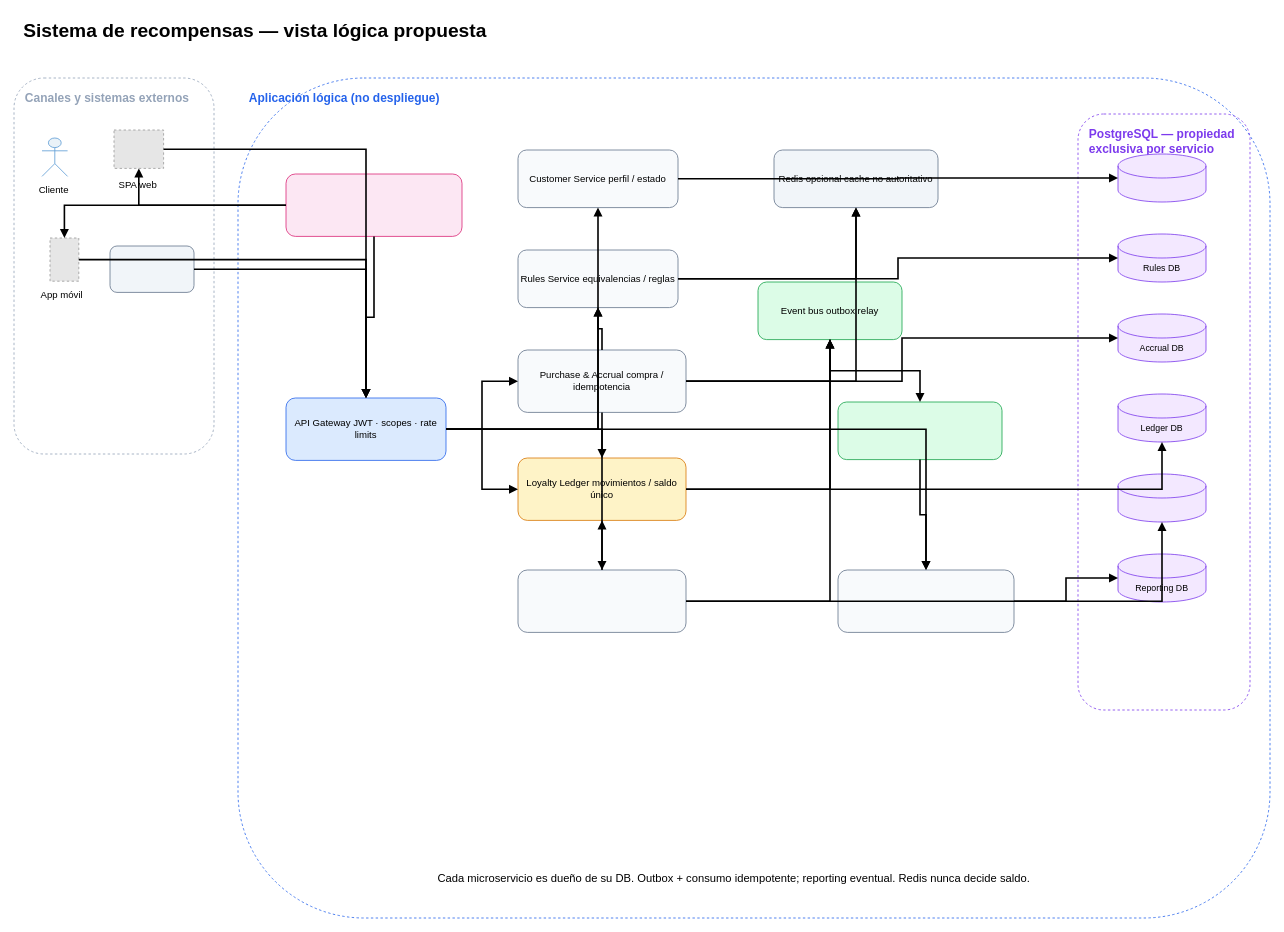
This 1284x932 diagram has some shape labels left out. Grey dashed boxes stand in for pictures. Each missing label, with the centre of its shape:
"Colas por consumidor reintento + DLQ" belongs at [919,430].
"Customer DB" belongs at [1161,177].
"POS / canal digital" belongs at [151,268].
"Proveedor OIDC Cognito / Entra / Google" belongs at [373,204].
"Redemption DB" belongs at [1161,497].
"Redemption Service saga / estados" belongs at [601,600].
"Reporting Service historial / CSV / PDF" belongs at [925,600].
